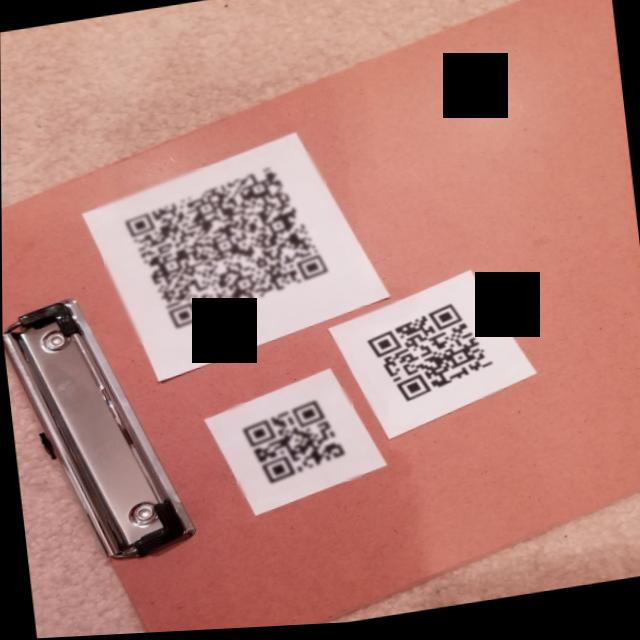QR_CODE: (94, 151, 340, 348), (353, 290, 502, 421), (227, 389, 360, 501)
